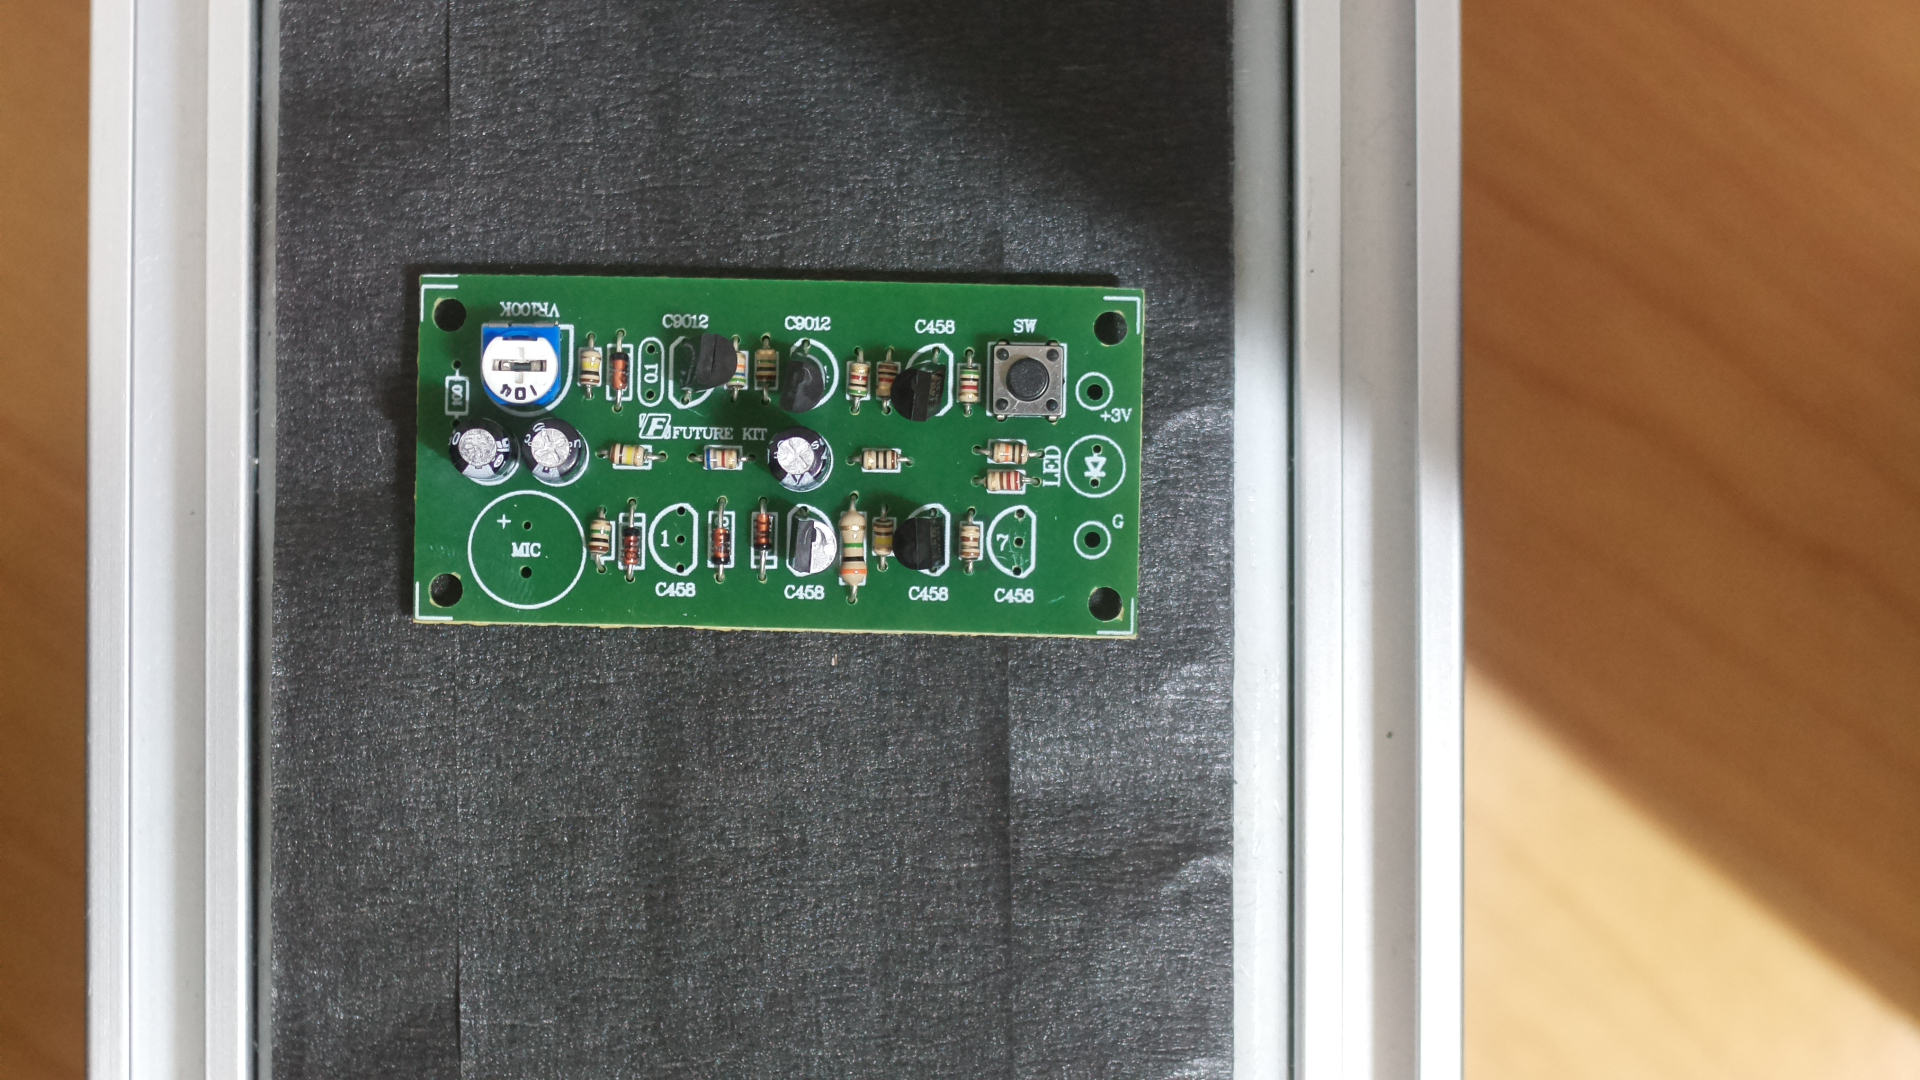A_Missing_part: (411, 262, 1156, 655)
